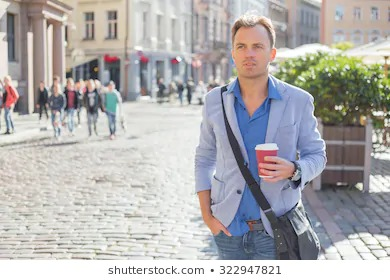F_M_suit jacket: (193, 72, 333, 241)
